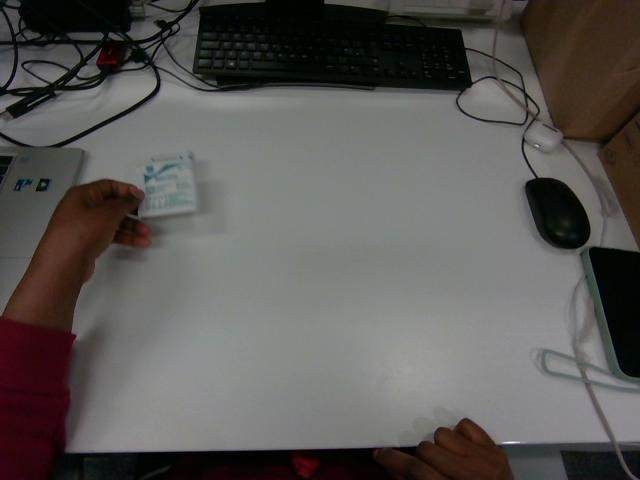gauze: (137, 153, 196, 217)
